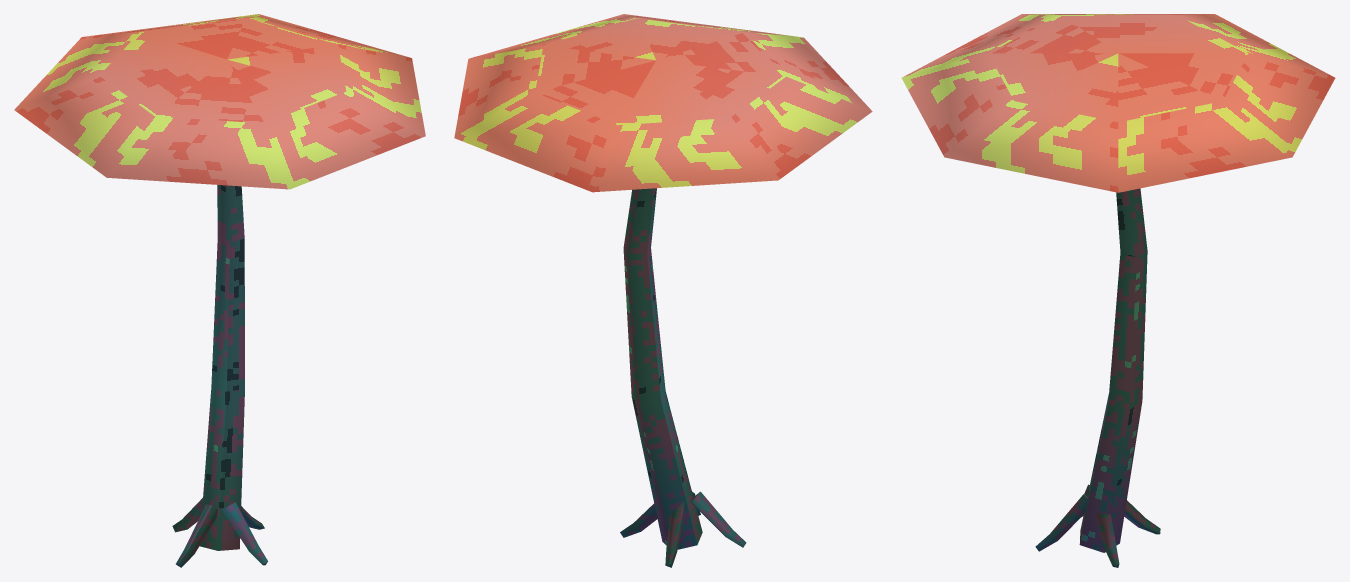
The model's file is alien.cap_tree.glb.
3 renders of one model, left to right at view 1: azimuth 30°, elevation 25°; view 2: azimuth 150°, elevation 25°; view 3: azimuth 270°, elevation 25°, orthographic. The views are drawn at different scales.
Visible parts, largest first — view 1: kit_cap_0, kit_stalk_0, kit_roots; view 2: kit_cap_0, kit_stalk_0, kit_roots; view 3: kit_cap_0, kit_stalk_0, kit_roots.
Part boxes in pixels (x1,y1,x2,y2): kit_cap_0: (14,14,425,189); kit_stalk_0: (200,185,244,550); kit_roots: (172,498,267,567); kit_cap_0: (454,14,872,192); kit_stalk_0: (623,188,702,549); kit_roots: (620,491,746,567); kit_cap_0: (901,14,1335,192); kit_stalk_0: (1079,188,1147,552); kit_roots: (1035,484,1160,567).
Size of the model in its own units: 3.03 by 3.95 by 3.11.
Materials: 3 (3 with a texture image).
